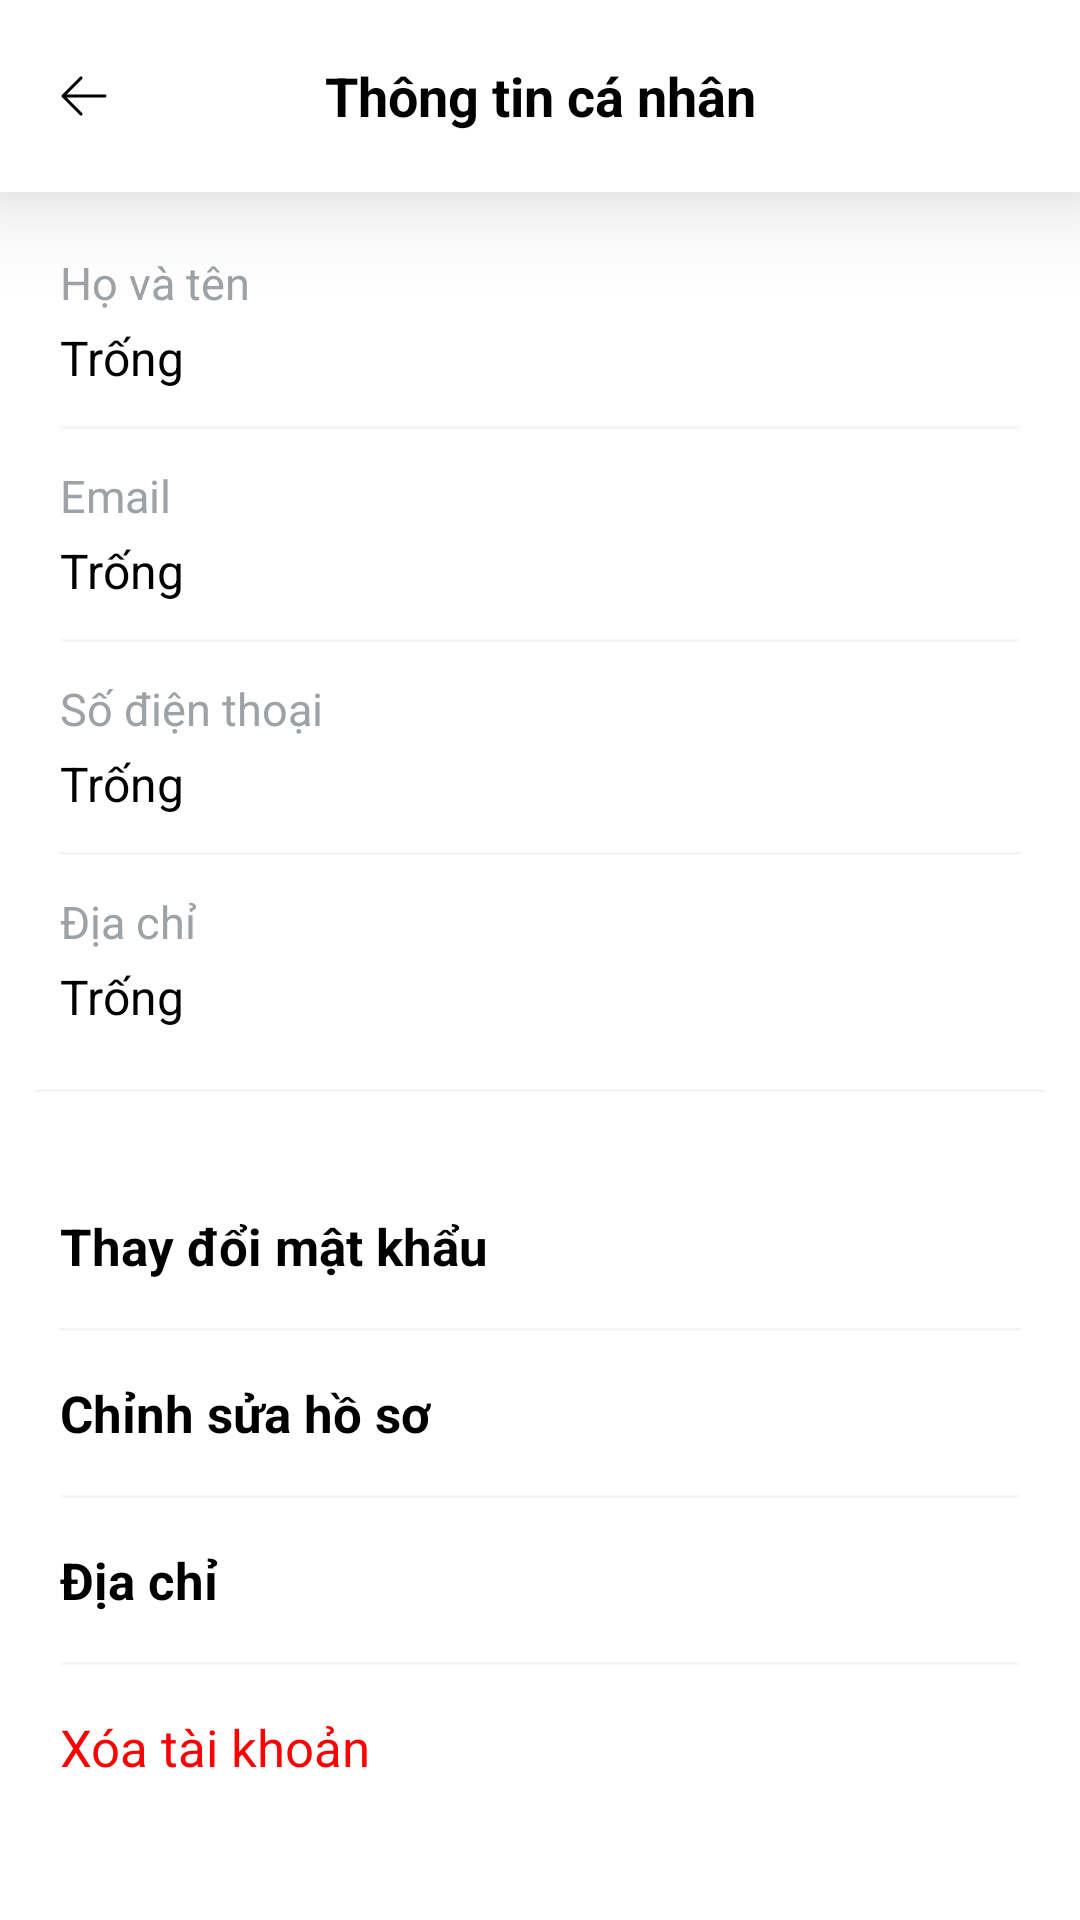

Point at icon controls on the screen. Image size 1080*1920, points as [x,y].
arrow back: [84,96]
